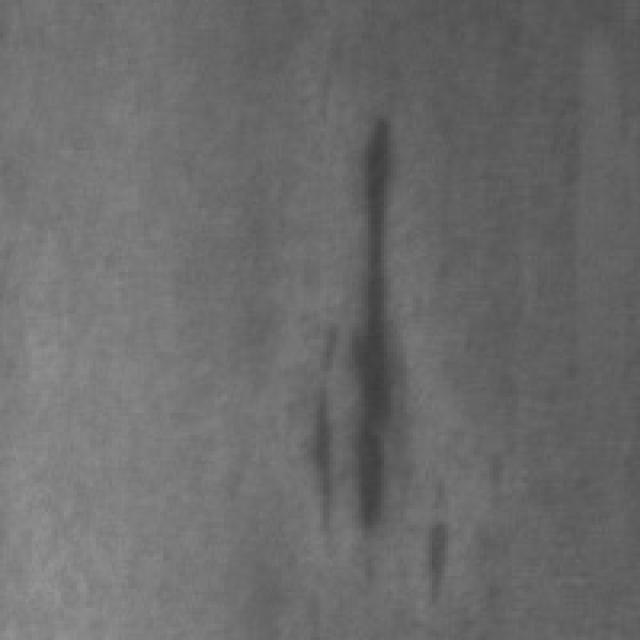inclusion: (284, 99, 410, 544)
